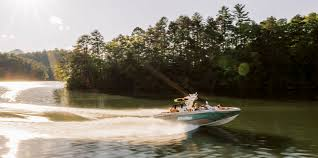boat: (151, 91, 242, 129)
